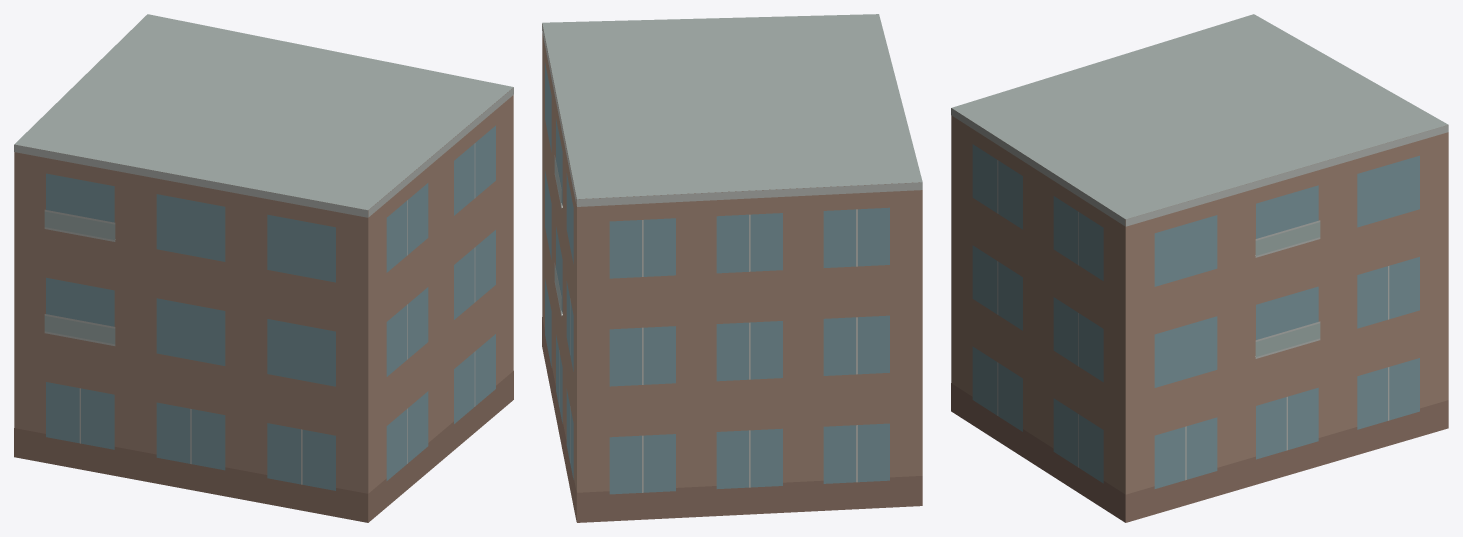
File: survey-upis-32606078.glb
The picture shows the model from 3 angles, left to right: view 1: azimuth 30°, elevation 25°; view 2: azimuth 150°, elevation 25°; view 3: azimuth 270°, elevation 25°; orthographic projection. The views are drawn at different scales.
Visible parts, largest first — view 1: survey-upis-32606078.tmp; view 2: survey-upis-32606078.tmp; view 3: survey-upis-32606078.tmp.
Boxes of the visible parts, <box> form: survey-upis-32606078.tmp: <box>14,14,513,522</box>; survey-upis-32606078.tmp: <box>542,14,922,522</box>; survey-upis-32606078.tmp: <box>951,14,1448,522</box>.
Size of the model in its own units: 14.67 by 10.1 by 15.01.
